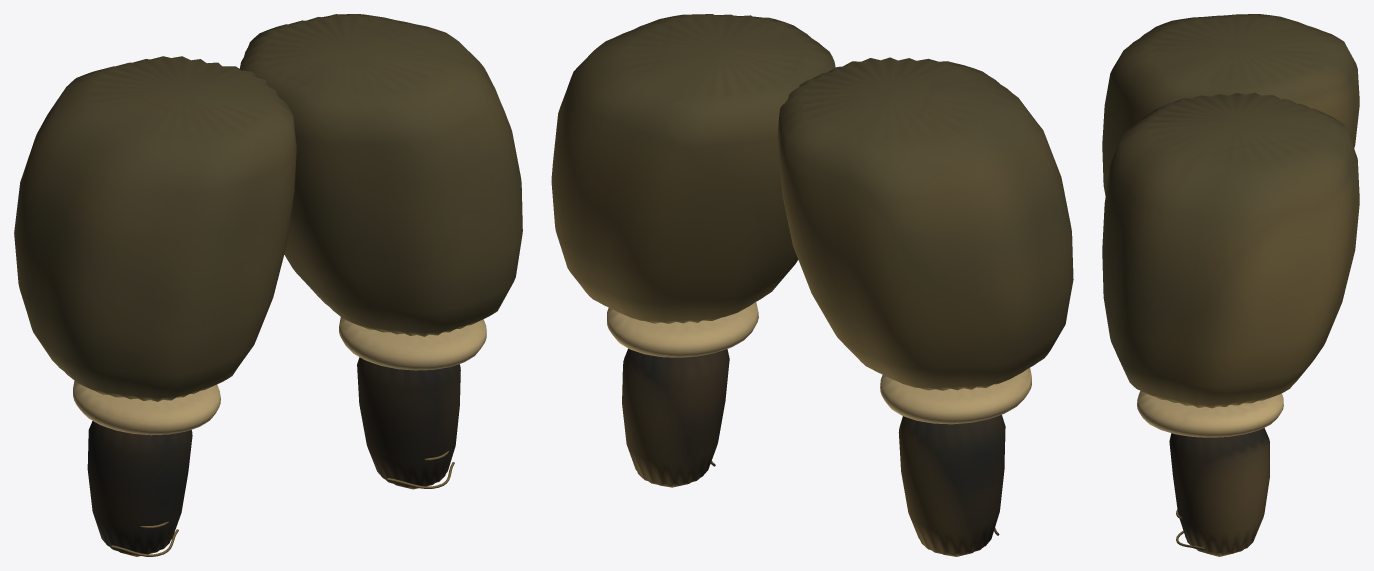
File: 03_Lower_body.fbx
The picture shows the model from 3 angles, left to right: view 1: azimuth 30°, elevation 25°; view 2: azimuth 150°, elevation 25°; view 3: azimuth 270°, elevation 25°; orthographic projection. The views are drawn at different scales.
Visible parts, largest first — view 1: Breeches.R, Breeches.L, Stocking.R, Stocking.L, Breeches knee band.L, Breeches knee band.R; view 2: Breeches.R, Breeches.L, Stocking.R, Stocking.L, Breeches knee band.L, Breeches knee band.R; view 3: Breeches.L, Breeches.R, Stocking.L, Breeches knee band.L.
Part boxes in pixels (x1,y1,x2,y2): Breeches.R: (14,56,296,401); Breeches.L: (239,14,522,336); Stocking.R: (87,421,192,556); Stocking.L: (357,357,460,489); Breeches knee band.L: (339,317,486,370); Breeches knee band.R: (73,381,220,435); Breeches.R: (777,57,1073,390); Breeches.L: (551,14,835,323); Stocking.R: (898,415,1005,556); Stocking.L: (622,348,729,487); Breeches knee band.L: (607,302,758,357); Breeches knee band.R: (880,368,1031,424); Breeches.L: (1102,92,1359,408); Breeches.R: (1102,14,1359,195); Stocking.L: (1169,428,1269,556); Breeches knee band.L: (1137,391,1283,437).
Bounding box in the file's own units: 49.58 × 45.01 × 25.53.
1 material, 1 textured.
